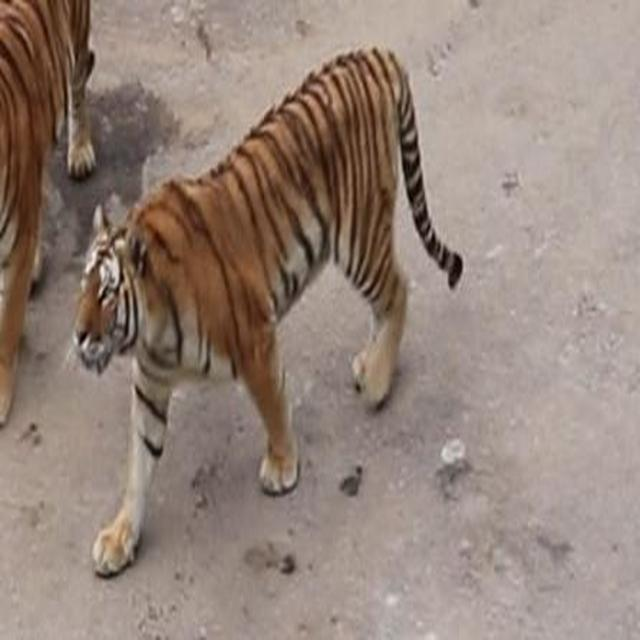tiger: (68, 43, 464, 578), (0, 0, 97, 434)
